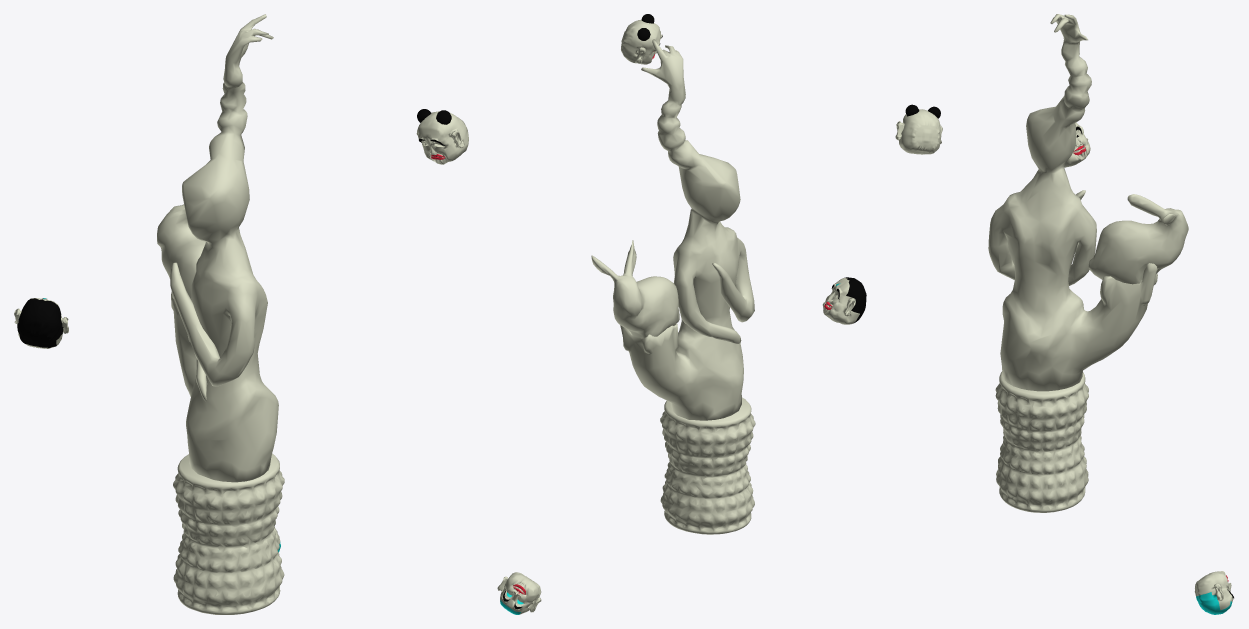
File: changE_dildo_ThreeJS.glb
3 views of the same model, side by side, from view 1: azimuth 30°, elevation 25°; view 2: azimuth 150°, elevation 25°; view 3: azimuth 270°, elevation 25° (orthographic). The views are drawn at different scales.
Visible parts, largest first — view 1: dildo_spine_try3_forFusion.001, big_heads_0001_crying:pCube3, big_heads_0001_neutral:pCube1; view 2: dildo_spine_try3_forFusion.001, big_heads_0001_neutral:pCube1, big_heads_0001_crying:pCube3, big_heads_0001_kaughing:pCube1; view 3: dildo_spine_try3_forFusion.001, big_heads_0001_crying:pCube3, big_heads_0001_kaughing:pCube1, big_heads_0001_neutral:pCube1.
Part boxes in pixels (x1=…): dildo_spine_try3_forFusion.001: x1=157, y1=14, x2=284, y2=614; big_heads_0001_crying:pCube3: x1=416, y1=109, x2=468, y2=164; big_heads_0001_neutral:pCube1: x1=14, y1=298, x2=68, y2=348; dildo_spine_try3_forFusion.001: x1=591, y1=39, x2=755, y2=534; big_heads_0001_neutral:pCube1: x1=822, y1=277, x2=866, y2=324; big_heads_0001_crying:pCube3: x1=621, y1=14, x2=662, y2=64; big_heads_0001_kaughing:pCube1: x1=497, y1=572, x2=541, y2=614; dildo_spine_try3_forFusion.001: x1=988, y1=14, x2=1188, y2=512; big_heads_0001_crying:pCube3: x1=895, y1=104, x2=942, y2=154; big_heads_0001_kaughing:pCube1: x1=1194, y1=571, x2=1233, y2=614; big_heads_0001_neutral:pCube1: x1=1064, y1=122, x2=1090, y2=167.
Size of the model in its own units: 2.71 by 4.48 by 2.44.
